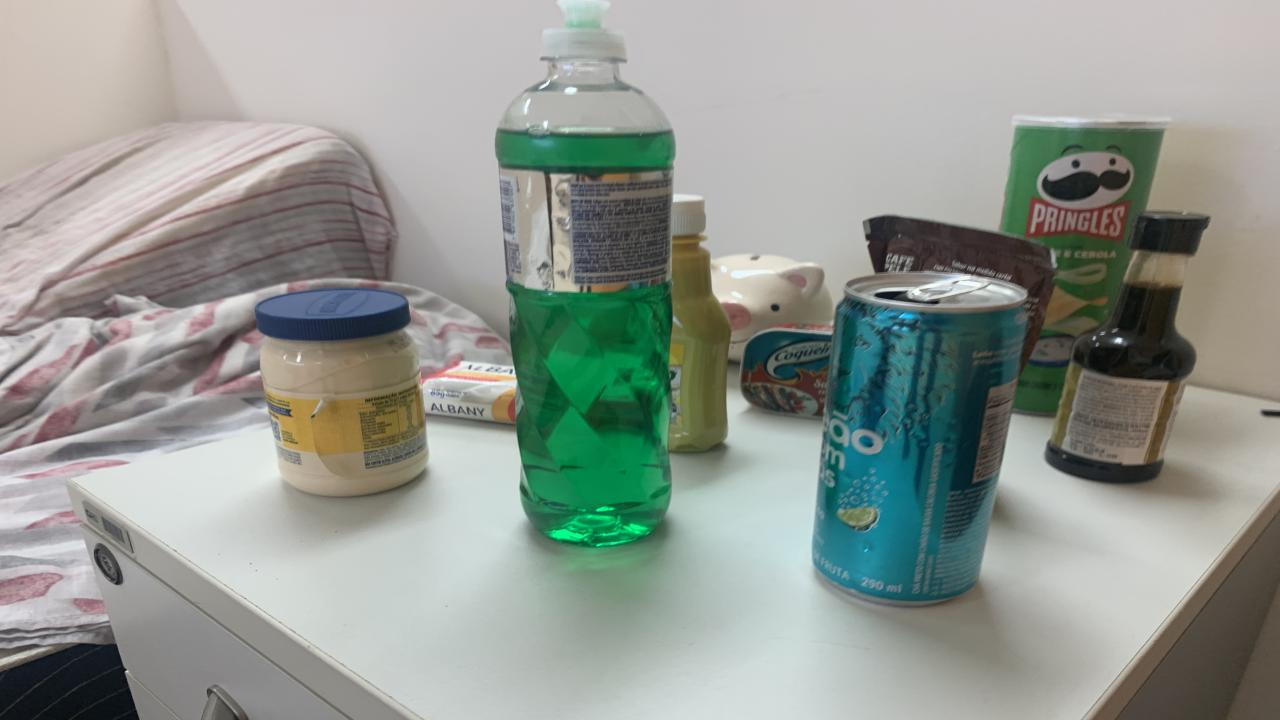Coffee-Pantry_Items: (862, 216, 1060, 368)
Detergent-Cleanup_Items: (495, 0, 675, 546)
English_Sauce-Pantry_Items: (1045, 212, 1210, 482)
Mayonnaise-Pantry_Items: (255, 289, 428, 495)
Mustard-Pantry_Items: (670, 195, 730, 452)
Pig_Safe-Miscellaneous: (710, 255, 832, 362)
Pringles-Snacks: (1000, 116, 1170, 414)
Soap-Cleanup_Items: (422, 362, 515, 424)
Tea-Drinks: (812, 272, 1028, 604)
Tuna_Can-Pantry_Items: (740, 324, 832, 418)
